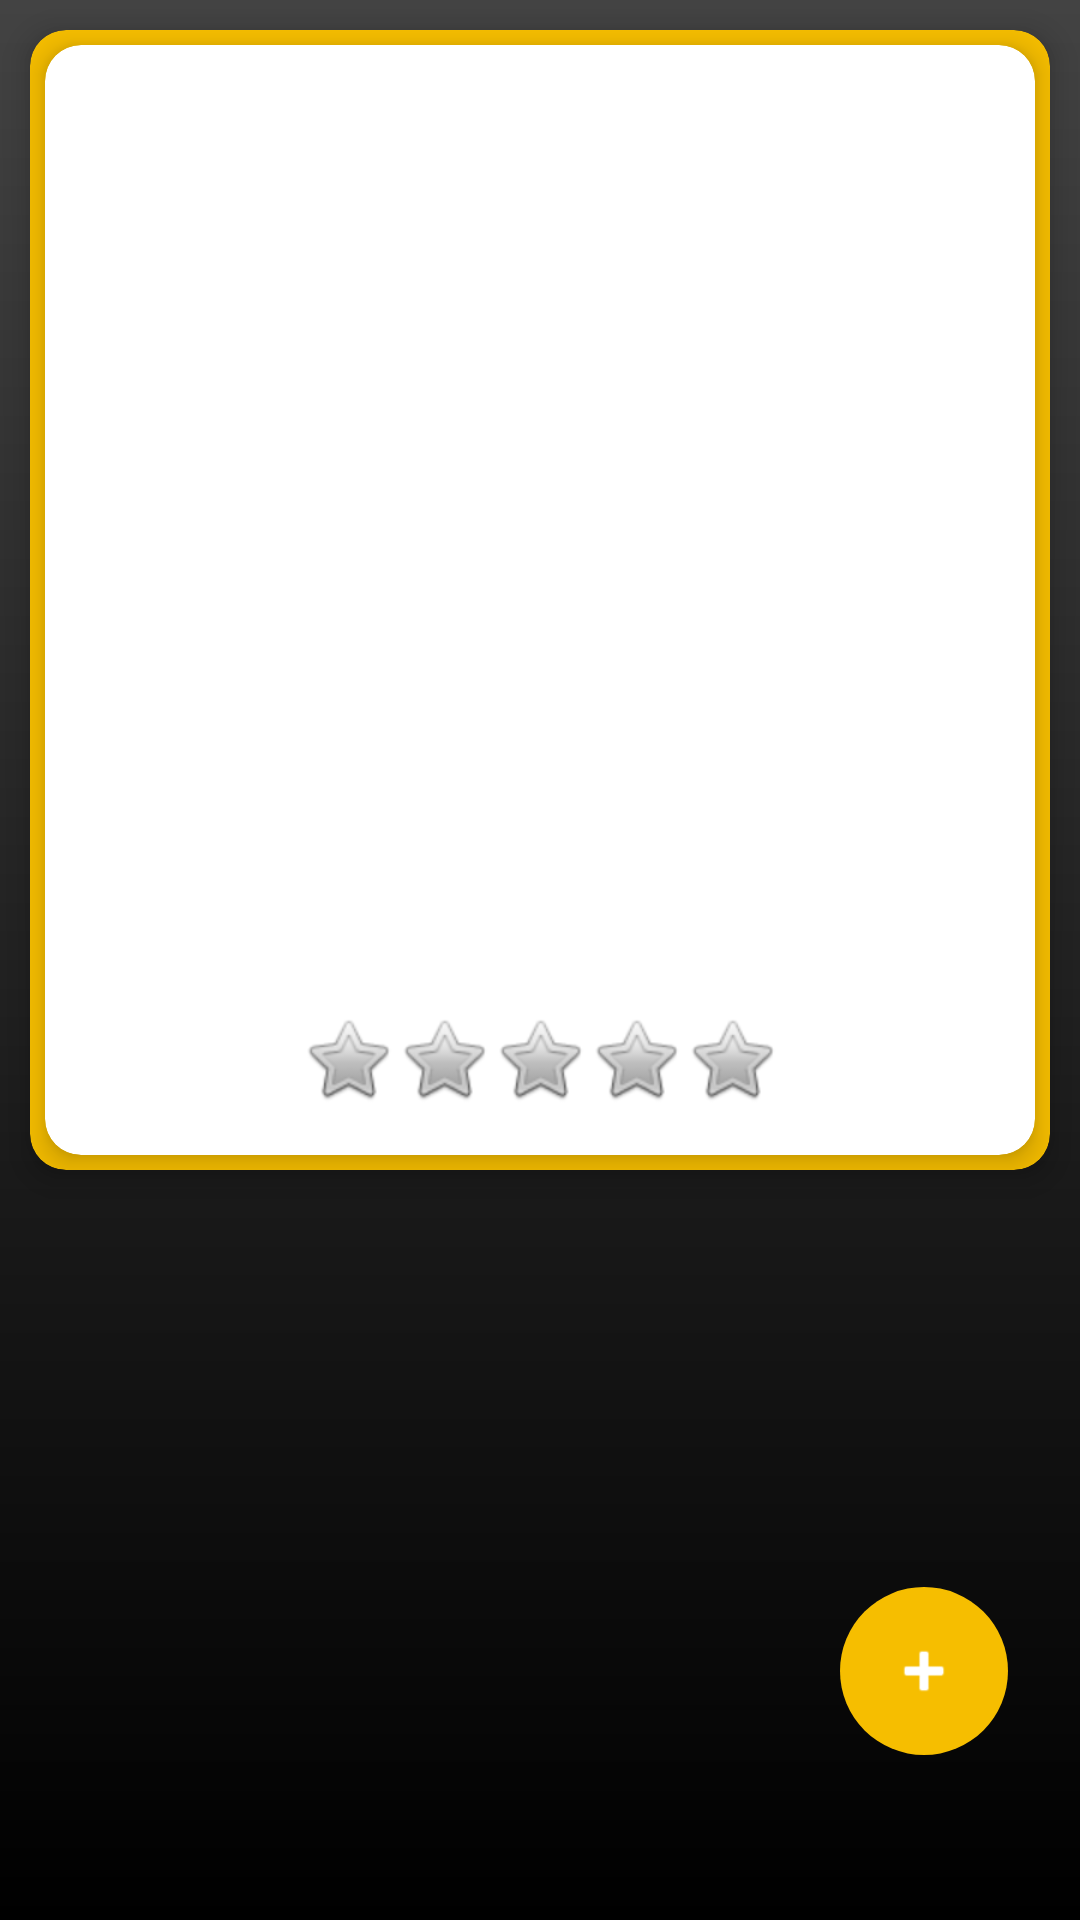

Locate icon controls on the screen. Image size 1080 × 1920, boxes as (x1, y1, x2, y2).
add: (840, 1587, 1008, 1755)
star off: (309, 1021, 389, 1099), (405, 1021, 485, 1099), (501, 1021, 581, 1099), (597, 1021, 677, 1099), (693, 1021, 773, 1099)
